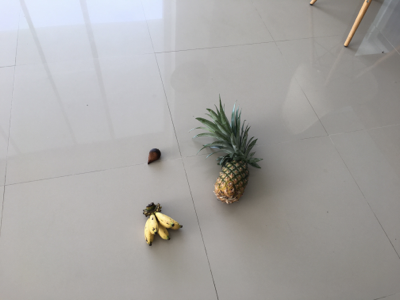banana: (142, 202, 183, 248)
pineapple: (195, 95, 263, 205)
snake fruit: (146, 149, 163, 167)
